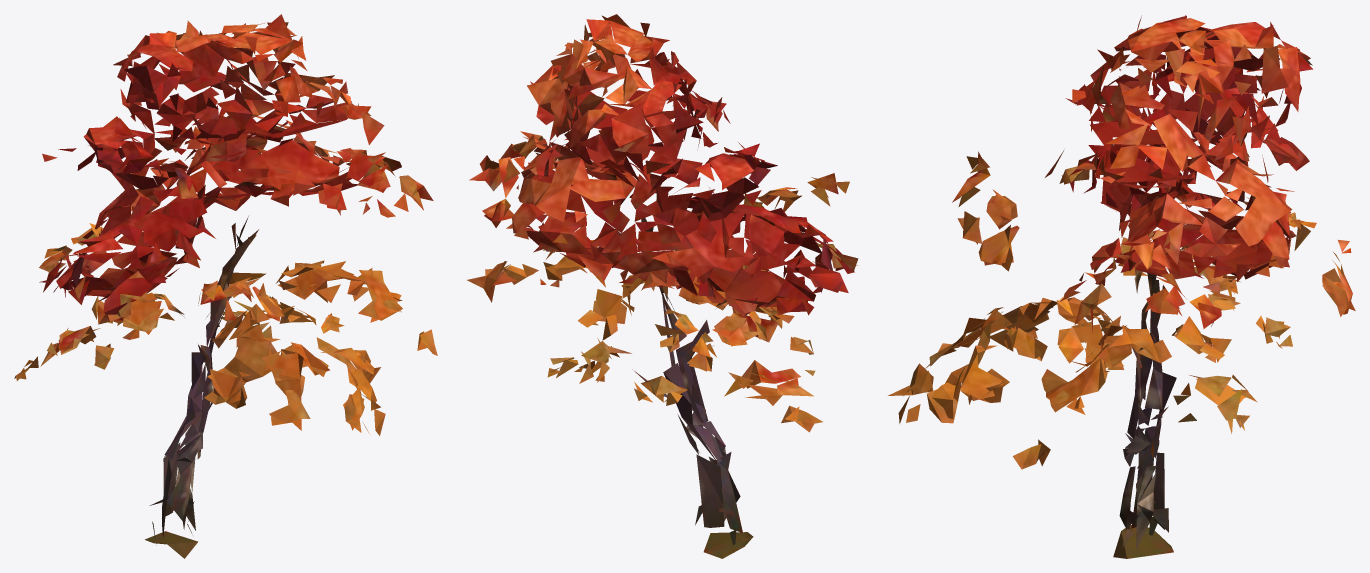
The model's file is tree_maple.glb.
The picture shows the model from 3 angles, left to right: view 1: azimuth 30°, elevation 25°; view 2: azimuth 150°, elevation 25°; view 3: azimuth 270°, elevation 25°; orthographic projection. The views are drawn at different scales.
Visible parts, largest first — view 1: geometry_0; view 2: geometry_0; view 3: geometry_0.
Boxes of the visible parts, x1,y1,x2,y2 form: geometry_0: [14, 14, 437, 558]; geometry_0: [467, 14, 858, 558]; geometry_0: [888, 15, 1355, 558].
Size of the model in its own units: 1.56 by 2.02 by 1.47.
Materials: 1 (1 with a texture image).
